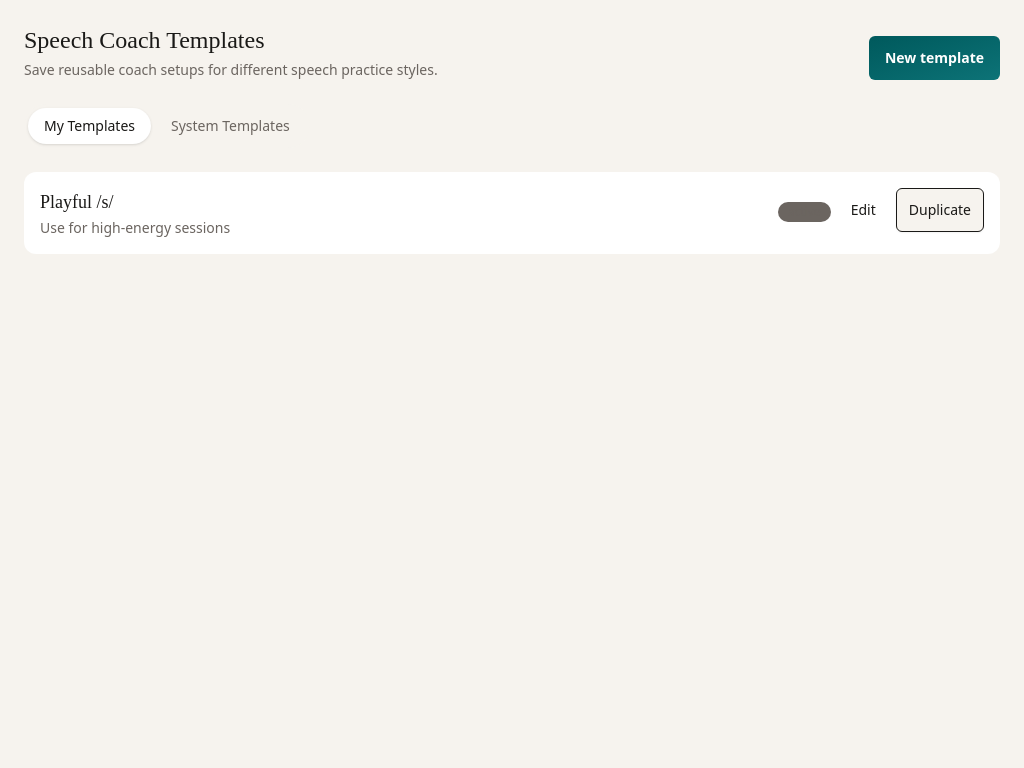
TemplateLibraryPage › shows the editor pre-filled when Edit is clicked
The image size is (1024, 768).
Step 1. Click the button "Edit" → (863, 210), box [839, 188, 888, 232]
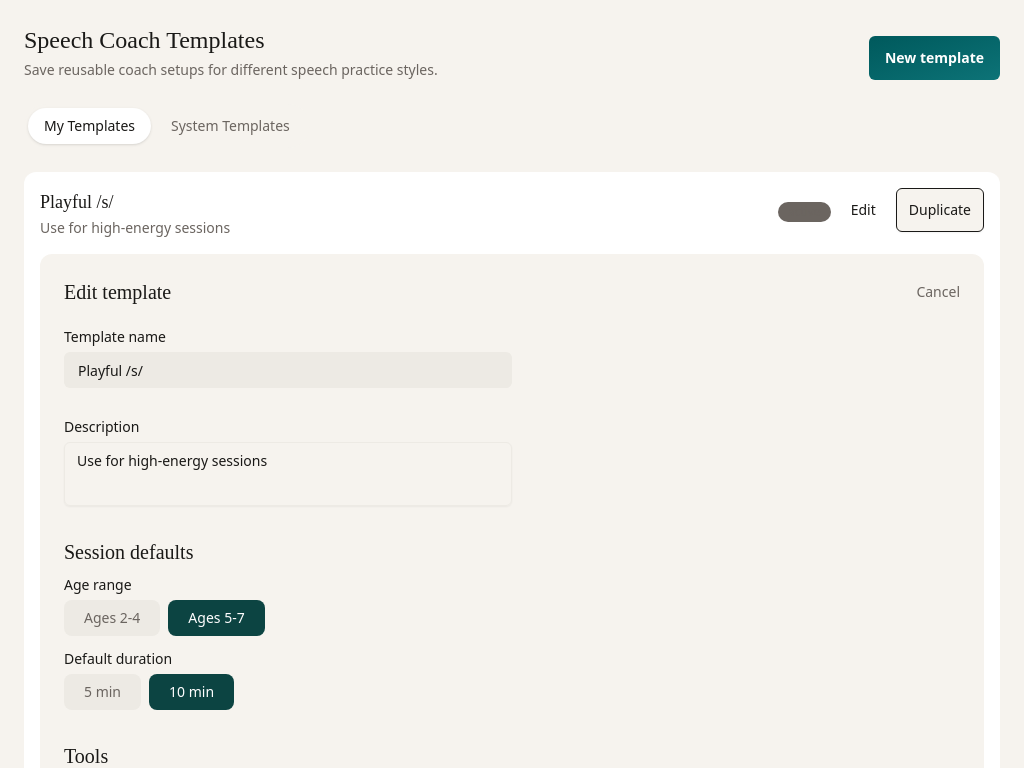
Expected: the heading "Edit template" is shown, [64, 278, 171, 306]
Expected: the field labelled "Template name" holds "Playful /s/", [64, 352, 512, 388]
Expected: the text box labelled "Description" holds "Use for high-energy sessions", [64, 442, 512, 506]
